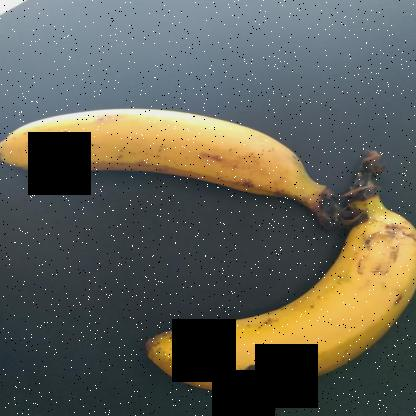ripe: (125, 192, 415, 399), (1, 95, 318, 196)
